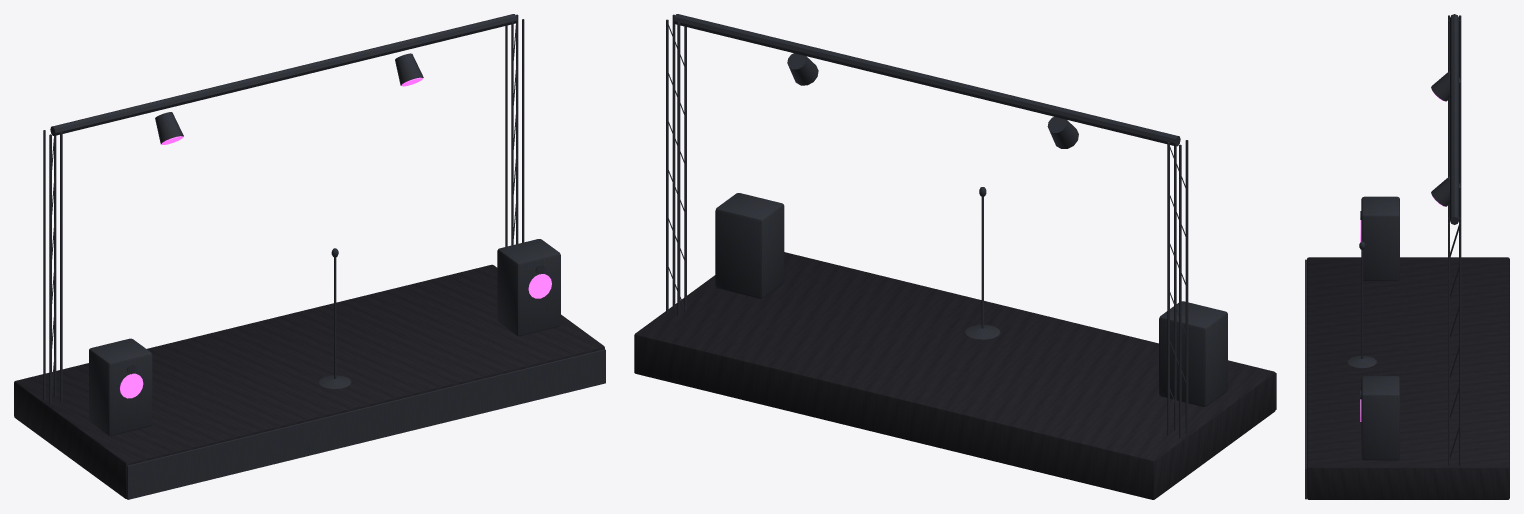
File: palco-pequeno.glb
The picture shows the model from 3 angles, left to right: view 1: azimuth 30°, elevation 25°; view 2: azimuth 150°, elevation 25°; view 3: azimuth 270°, elevation 25°; orthographic projection. The views are drawn at different scales.
Parts seen in each view (by area): view 1: praticavel, saia, caixa-de-som, caixa-de-som.001, travessa, banzo.001, banzo, banzo.002, banzo.003, banzo.004, banzo.006, banzo.005 (+1 smaller); view 2: praticavel, caixa-de-som.001, travessa, caixa-de-som, banzo.005, banzo, banzo.006, banzo.007, banzo.001, banzo.003, banzo.004, banzo.002 (+2 smaller); view 3: praticavel, caixa-de-som.001, caixa-de-som, travessa, banzo.007, banzo.003, banzo.006, saia, refletor, refletor.001, haste-do-microfone, banzo.002 (+1 smaller).
Boxes of the visible parts, box(x1,y1,x2,y2) form: praticavel: box(14, 264, 604, 498); saia: box(127, 349, 605, 499); caixa-de-som: box(89, 338, 152, 435); caixa-de-som.001: box(497, 239, 560, 336); travessa: box(50, 14, 517, 135); banzo.001: box(43, 130, 45, 400); banzo: box(49, 134, 51, 404); banzo.002: box(60, 132, 62, 402); banzo.003: box(54, 135, 56, 397); banzo.004: box(511, 21, 513, 245); banzo.006: box(522, 19, 524, 242); banzo.005: box(505, 25, 507, 246); praticavel: box(634, 252, 1275, 499); caixa-de-som.001: box(715, 193, 784, 298); travessa: box(673, 14, 1180, 146); caixa-de-som: box(1159, 301, 1227, 406); banzo.005: box(677, 22, 680, 315); banzo: box(1185, 140, 1188, 433); banzo.006: box(672, 14, 675, 308); banzo.007: box(666, 19, 668, 313); banzo.001: box(1179, 144, 1181, 438); banzo.003: box(1167, 142, 1169, 435); banzo.004: box(684, 26, 686, 311); banzo.002: box(1174, 146, 1176, 430); praticavel: box(1307, 257, 1509, 499); caixa-de-som.001: box(1361, 376, 1399, 460); caixa-de-som: box(1361, 196, 1399, 280); travessa: box(1450, 14, 1458, 224); banzo.007: box(1459, 223, 1461, 465); banzo.003: box(1459, 20, 1461, 218); banzo.006: box(1448, 223, 1449, 465); saia: box(1305, 259, 1306, 499); refletor: box(1431, 71, 1460, 101); refletor.001: box(1431, 176, 1460, 206); haste-do-microfone: box(1361, 250, 1363, 358); banzo.002: box(1448, 20, 1449, 218).
Bounding box in the file's own units: 5.4 × 3.35 × 2.22.
3 materials, 2 textured.
